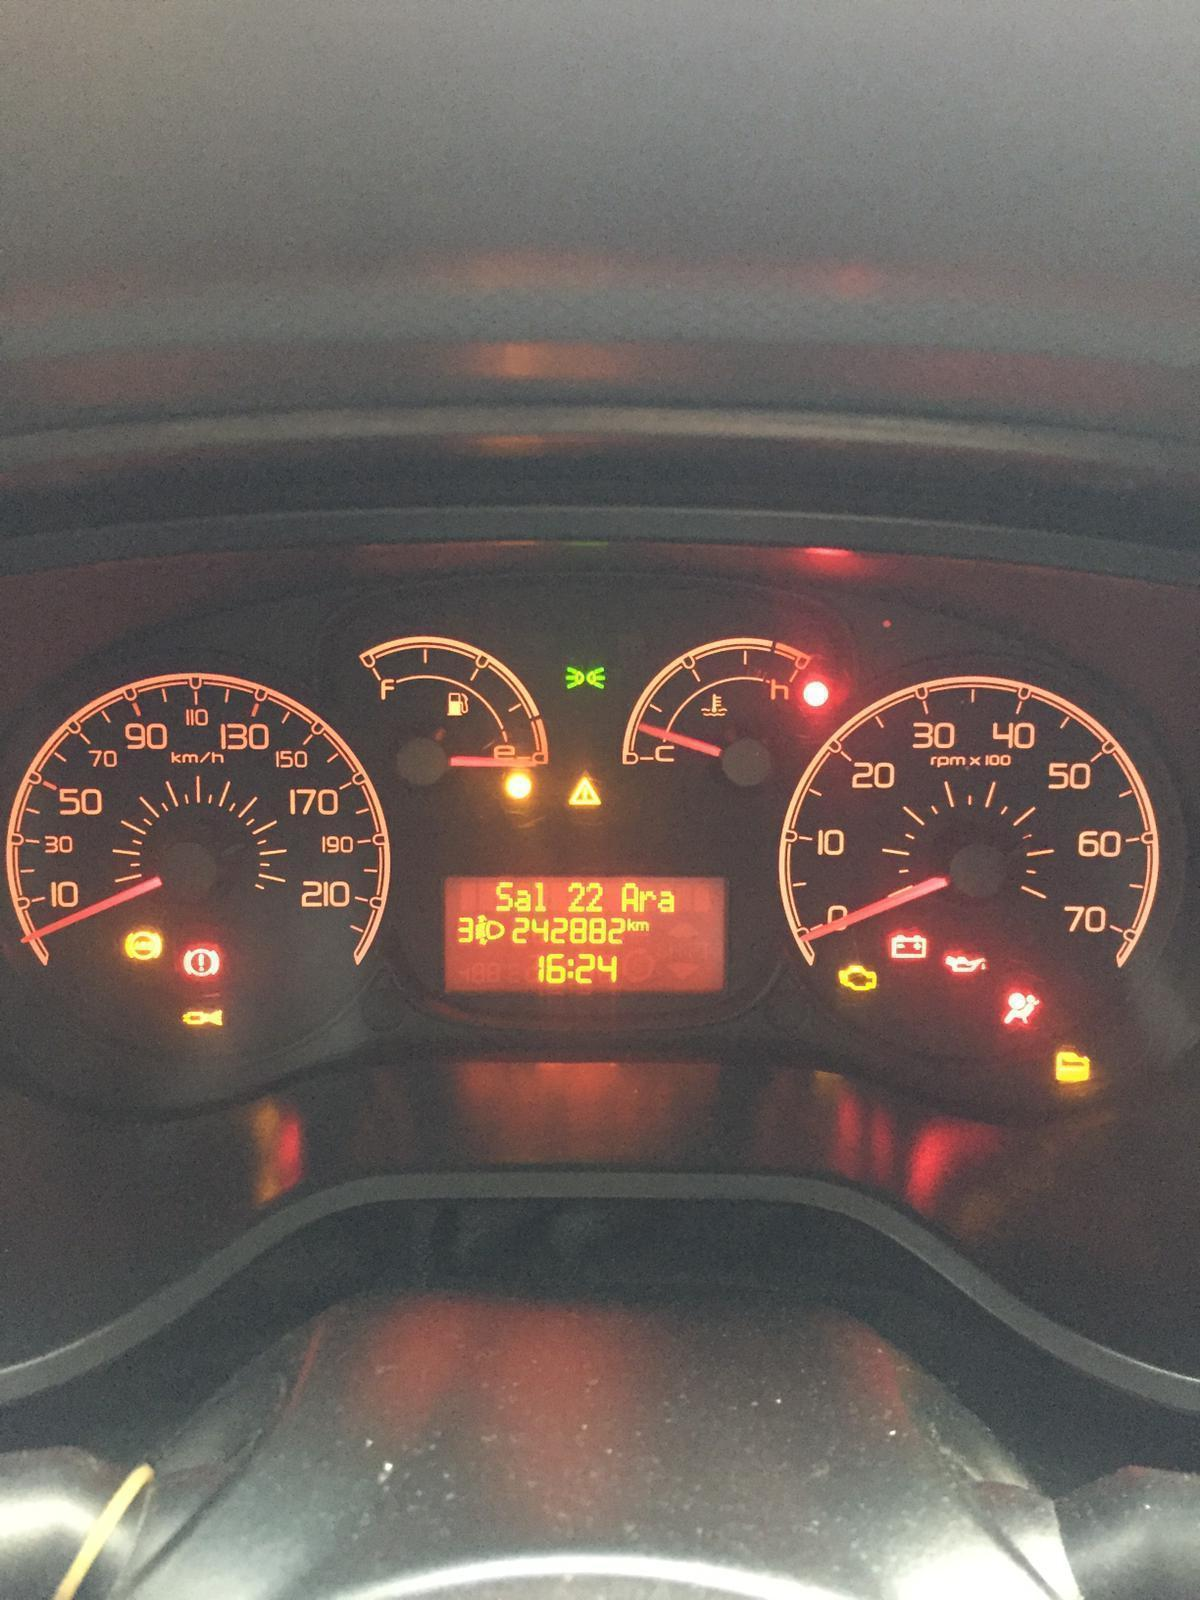1: (534, 952, 545, 986)
2: (575, 952, 596, 986), (568, 879, 587, 913), (511, 915, 529, 945), (550, 915, 567, 945), (586, 881, 603, 912), (608, 915, 624, 945)
3: (455, 913, 474, 945)
4: (597, 951, 618, 985), (532, 916, 548, 944)
6: (545, 951, 565, 985)
8: (570, 913, 587, 944), (589, 916, 608, 944)
X: (621, 879, 639, 913), (495, 879, 511, 911), (657, 888, 676, 913), (639, 888, 655, 913), (534, 879, 547, 912), (516, 889, 531, 911), (635, 918, 650, 932), (566, 957, 574, 981), (626, 916, 635, 932)
odometer: (437, 871, 734, 998)
